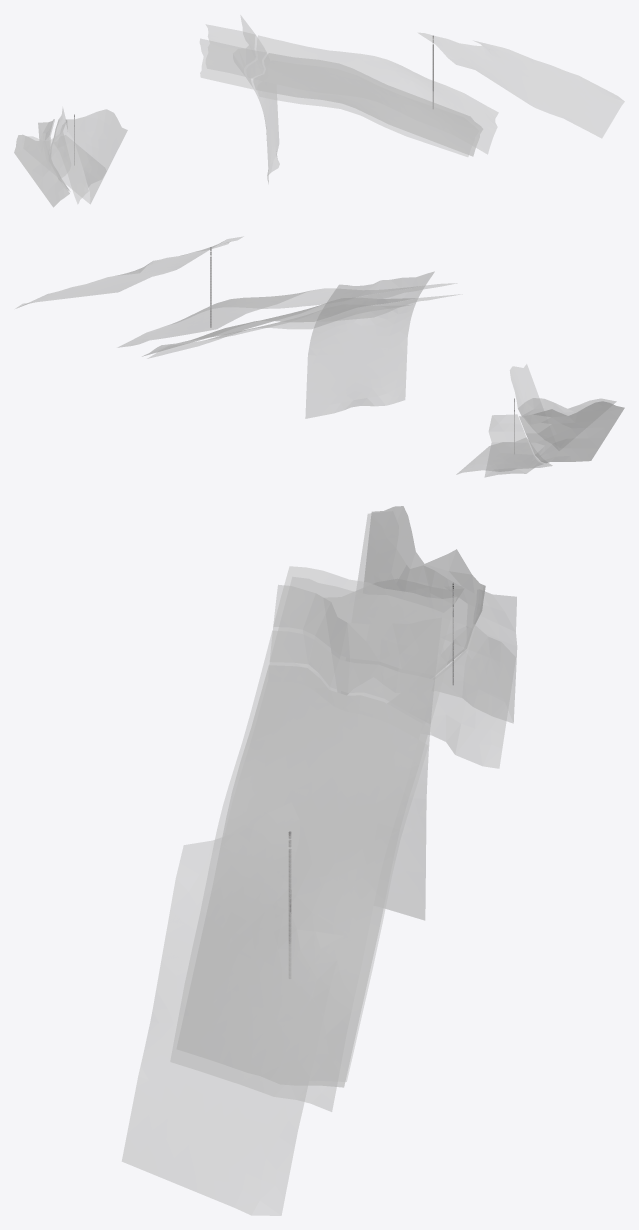
File: suidao_2.glb
3 views of the same model, one above another, from view 1: azimuth 30°, elevation 25°; view 2: azimuth 150°, elevation 25°; view 3: azimuth 270°, elevation 25° (orthographic). The views are drawn at different scales.
Visible parts, largest first — view 1: Layer:P2Q F5 YOU 2, Layer:P2Q F5 YOU 1, Layer:p3c 6, Layer:F6 11, Layer:P1L F5 YOU 3, Layer:S2H ZUO 1, Layer:p2q 11 1, Layer:P2M F5 ZUO 2, Layer:P2Q F5 ZUO 1, Layer:p2q you 2, Layer:F4 ZUO 4, Layer:P1L F5 YOU 4 (+4 smaller); view 2: Layer:S2H F5 ZUO 9, Layer:p2q 11 1, Layer:F4 ZUO 4, Layer:P2Q F5 YOU 2, Layer:p2q you 8, Layer:p3c 6, Layer:P2Q F5 YOU 1, Layer:p2q you 2, Layer:F5 7, Layer:F5 11, Layer:F6 11, Layer:P1L F5 YOU 3 (+5 smaller); view 3: Layer:P2Q F5 YOU 2, Layer:p3c 6, Layer:P2Q F5 YOU 1, Layer:P2M F5 ZUO 2, Layer:p2q you 2, Layer:F5 7, Layer:p2q 11 1, Layer:p2q you 8, Layer:F5 11, Layer:P2Q F5 ZUO 1, Layer:S2H ZUO 1, Layer:S2H F5 ZUO 9 (+4 smaller).
Part boxes in pixels (<box>): Layer:P2Q F5 YOU 2: <box>246,35,498,154</box>; Layer:P2Q F5 YOU 1: <box>253,53,482,156</box>; Layer:p3c 6: <box>418,32,624,138</box>; Layer:F6 11: <box>66,109,127,203</box>; Layer:P1L F5 YOU 3: <box>253,79,475,155</box>; Layer:S2H ZUO 1: <box>23,119,90,203</box>; Layer:p2q 11 1: <box>14,119,69,207</box>; Layer:P2M F5 ZUO 2: <box>205,24,255,76</box>; Layer:P2Q F5 ZUO 1: <box>199,38,257,89</box>; Layer:p2q you 2: <box>54,135,106,204</box>; Layer:F4 ZUO 4: <box>14,121,69,206</box>; Layer:P1L F5 YOU 4: <box>257,90,468,156</box>; Layer:S2H F5 ZUO 9: <box>305,304,414,418</box>; Layer:p2q 11 1: <box>519,401,624,463</box>; Layer:F4 ZUO 4: <box>519,401,623,462</box>; Layer:P2Q F5 YOU 2: <box>117,286,417,347</box>; Layer:p2q you 8: <box>484,414,542,477</box>; Layer:p3c 6: <box>15,236,243,308</box>; Layer:P2Q F5 YOU 1: <box>142,298,413,356</box>; Layer:p2q you 2: <box>456,437,552,474</box>; Layer:F5 7: <box>326,271,434,303</box>; Layer:F5 11: <box>316,286,424,321</box>; Layer:F6 11: <box>510,364,543,415</box>; Layer:P1L F5 YOU 3: <box>144,304,325,355</box>; Layer:P2Q F5 YOU 2: <box>170,630,434,1111</box>; Layer:p3c 6: <box>122,802,343,1215</box>; Layer:P2Q F5 YOU 1: <box>223,665,429,1087</box>; Layer:P2M F5 ZUO 2: <box>273,566,456,675</box>; Layer:p2q you 2: <box>423,623,515,768</box>; Layer:F5 7: <box>273,585,441,675</box>; Layer:p2q 11 1: <box>364,506,485,660</box>; Layer:p2q you 8: <box>440,589,517,723</box>; Layer:F5 11: <box>270,627,435,724</box>; Layer:P2Q F5 ZUO 1: <box>278,577,458,723</box>; Layer:S2H ZUO 1: <box>356,511,464,601</box>; Layer:S2H F5 ZUO 9: <box>384,741,429,920</box>.
Bounding box in the file's own units: 4522 × 1000 × 1333.
22 materials, 2 textured.
